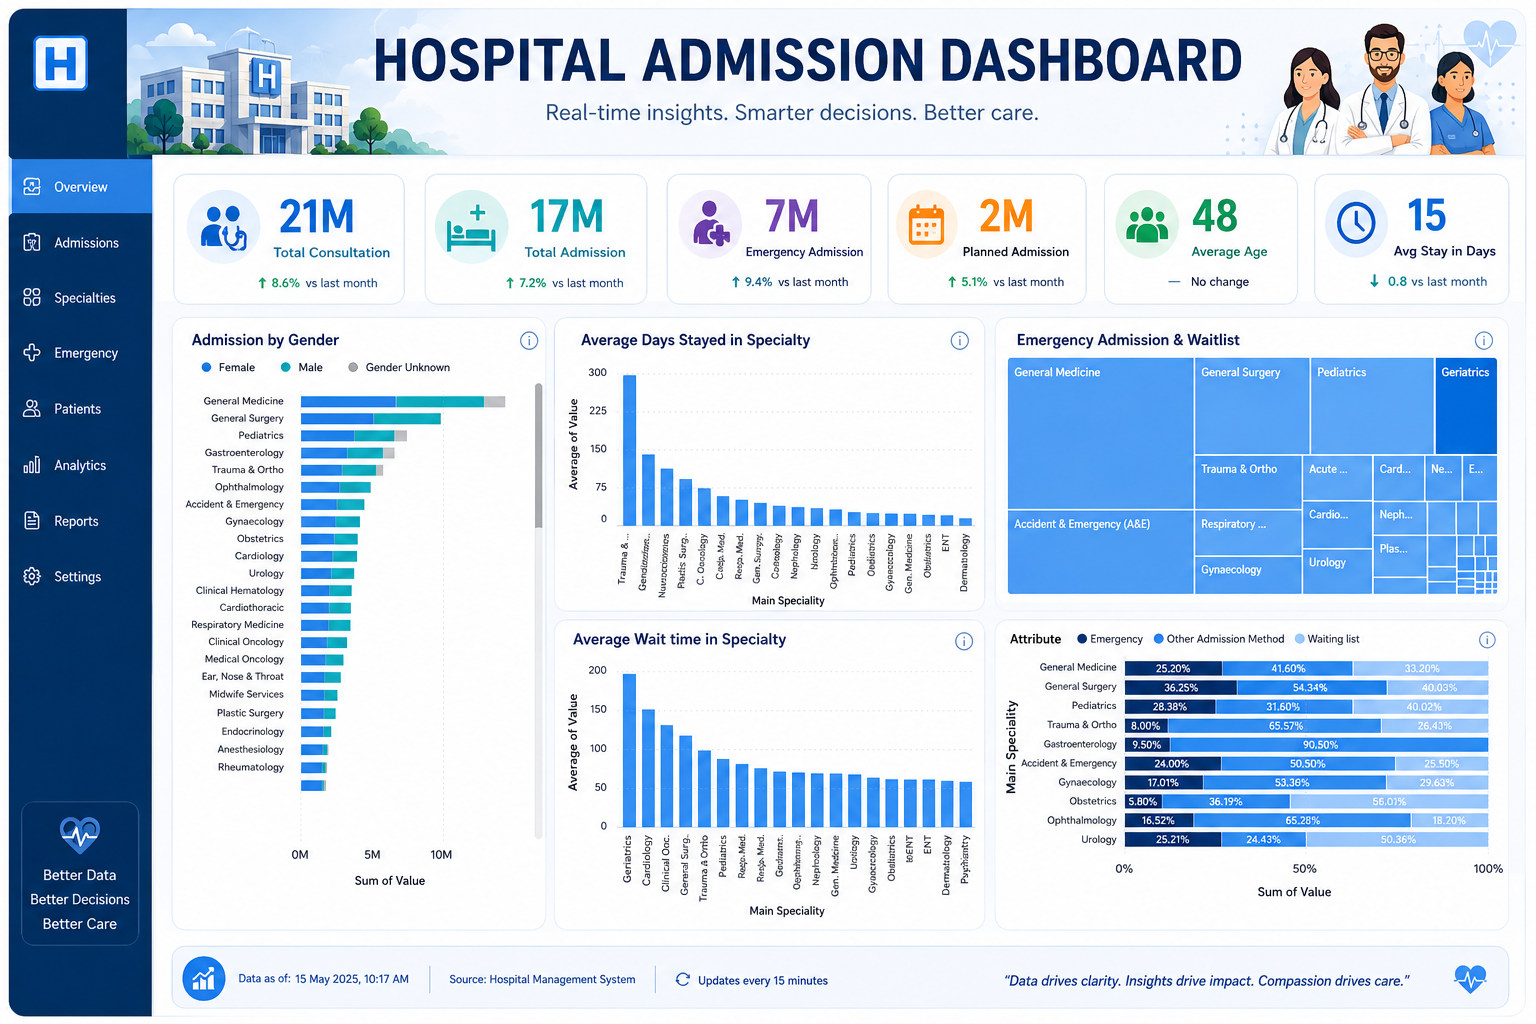

This screenshot's page, from the dashboard's own definition file:
{"tool":"powerbi","page":{"name":"Page 1","canvas":[1280,870],"ordinal":0},"visuals":[{"type":"textbox","box":[8.1,9.3,1261.6,77.9],"z":0},{"type":"cardVisual","fields":{"Data":["Sum(Main Specialty Edited (hosp-epis-stat-admi-main-spec-2019-20-tab)_Main Specialty.Value)"]},"box":[8.2,97.4,196.2,126.2],"z":1000},{"type":"cardVisual","fields":{"Data":["Sum(Main Specialty Edited (hosp-epis-stat-admi-main-spec-2019-20-tab)_Main Specialty.Value)"]},"box":[213.2,97.4,196.2,126.2],"z":2000},{"type":"cardVisual","fields":{"Data":["Sum(Main Specialty Edited (hosp-epis-stat-admi-main-spec-2019-20-tab)_Main Specialty.Value)"]},"box":[418.3,97.4,215.4,126.2],"z":3000},{"type":"cardVisual","fields":{"Data":["Sum(Main Specialty Edited (hosp-epis-stat-admi-main-spec-2019-20-tab)_Main Specialty.Value)"]},"box":[642.5,97.4,199,126.2],"z":4000},{"type":"cardVisual","fields":{"Data":["Avg(Main Specialty Edited (hosp-epis-stat-admi-main-spec-2019-20-tab)_Main Specialty.Value)"]},"box":[850.2,97.4,194.9,126.2],"z":5000},{"type":"cardVisual","fields":{"Data":["Avg(Main Specialty Edited (hosp-epis-stat-admi-main-spec-2019-20-tab)_Main Specialty.Value)"]},"box":[1053.4,96.9,206.7,126.9],"z":6000},{"type":"slicer","title":"Admission by Gender","fields":{"Values":["Main Specialty Edited (hosp-epis-stat-admi-main-spec-2019-20-tab)_Main Specialty.Attribute"]},"box":[8.2,234.6,360.9,72.7],"z":7000},{"type":"clusteredBarChart","title":"Admission by Gender","fields":{"Category":["Main Specialty Edited (hosp-epis-stat-admi-main-spec-2019-20-tab)_Main Specialty.Main Speciality"],"Y":["Sum(Main Specialty Edited (hosp-epis-stat-admi-main-spec-2019-20-tab)_Main Specialty.Value)"]},"box":[9.6,307.4,360.9,551.6],"z":8000},{"type":"clusteredColumnChart","title":"Average Days Stayed in Speciality","fields":{"Category":["Main Specialty Edited (hosp-epis-stat-admi-main-spec-2019-20-tab)_Main Specialty.Main Speciality"],"Y":["Avg(Main Specialty Edited (hosp-epis-stat-admi-main-spec-2019-20-tab)_Main Specialty.Value)"]},"box":[384.2,234.6,432.2,299.1],"z":9000},{"type":"clusteredColumnChart","title":"Average Wait time in Speciality ","fields":{"Category":["Main Specialty Edited (hosp-epis-stat-admi-main-spec-2019-20-tab)_Main Specialty.Main Speciality"],"Y":["Avg(Main Specialty Edited (hosp-epis-stat-admi-main-spec-2019-20-tab)_Main Specialty.Value)"]},"box":[384.2,544.8,432.2,314.2],"z":10000},{"type":"treemap","title":"Emergency Admission & Waitlist","fields":{"Group":["Main Specialty Edited (hosp-epis-stat-admi-main-spec-2019-20-tab)_Main Specialty.Main Speciality"],"Values":["Sum(Main Specialty Edited (hosp-epis-stat-admi-main-spec-2019-20-tab)_Main Specialty.Value)"]},"box":[831,235.2,439,297.9],"z":11000},{"type":"hundredPercentStackedBarChart","fields":{"Category":["Main Specialty Edited (hosp-epis-stat-admi-main-spec-2019-20-tab)_Main Specialty.Main Speciality"],"Y":["Sum(Main Specialty Edited (hosp-epis-stat-admi-main-spec-2019-20-tab)_Main Specialty.Value)"],"Series":["Main Specialty Edited (hosp-epis-stat-admi-main-spec-2019-20-tab)_Main Specialty.Attribute"]},"box":[831,543.1,431.9,315],"z":12000}]}

Visuals, with their boxes on the page's 1280x870 design canvas (x1, y1, x2, y2). These are canvas units, not pixel positions in the 1536x1024 screenshot, which may show the page scaled, cropped or inside an application window:
textbox: x1=8 y1=9 x2=1270 y2=87
cardVisual - Sum(Main Specialty Edited (hosp-epis-stat-admi-main-spec-2019-20-tab)_Main Specialty.Value): x1=8 y1=97 x2=204 y2=224
cardVisual - Sum(Main Specialty Edited (hosp-epis-stat-admi-main-spec-2019-20-tab)_Main Specialty.Value): x1=213 y1=97 x2=409 y2=224
cardVisual - Sum(Main Specialty Edited (hosp-epis-stat-admi-main-spec-2019-20-tab)_Main Specialty.Value): x1=418 y1=97 x2=634 y2=224
cardVisual - Sum(Main Specialty Edited (hosp-epis-stat-admi-main-spec-2019-20-tab)_Main Specialty.Value): x1=642 y1=97 x2=842 y2=224
cardVisual - Avg(Main Specialty Edited (hosp-epis-stat-admi-main-spec-2019-20-tab)_Main Specialty.Value): x1=850 y1=97 x2=1045 y2=224
cardVisual - Avg(Main Specialty Edited (hosp-epis-stat-admi-main-spec-2019-20-tab)_Main Specialty.Value): x1=1053 y1=97 x2=1260 y2=224
"Admission by Gender" slicer: x1=8 y1=235 x2=369 y2=307
"Admission by Gender" clusteredBarChart: x1=10 y1=307 x2=370 y2=859
"Average Days Stayed in Speciality" clusteredColumnChart: x1=384 y1=235 x2=816 y2=534
"Average Wait time in Speciality " clusteredColumnChart: x1=384 y1=545 x2=816 y2=859
"Emergency Admission & Waitlist" treemap: x1=831 y1=235 x2=1270 y2=533
hundredPercentStackedBarChart - Main Specialty Edited (hosp-epis-stat-admi-main-spec-2019-20-tab)_Main Specialty.Main Speciality x Sum(Main Specialty Edited (hosp-epis-stat-admi-main-spec-2019-20-tab)_Main Specialty.Value): x1=831 y1=543 x2=1263 y2=858
